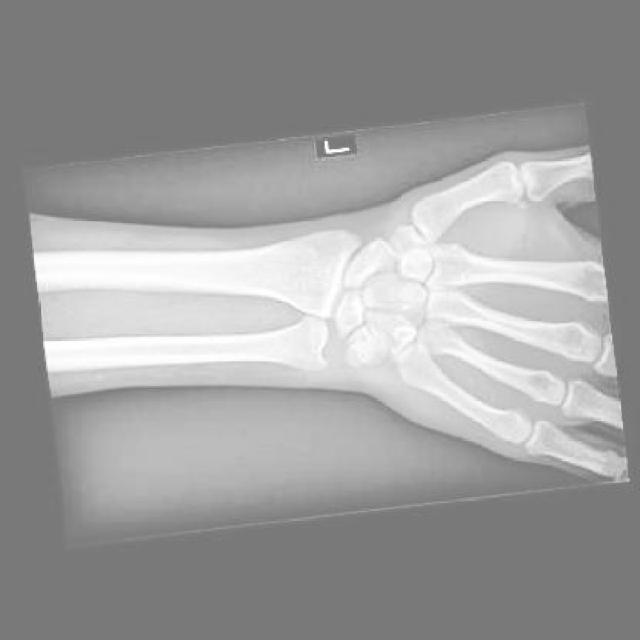Fracture: (340, 334, 389, 376)
